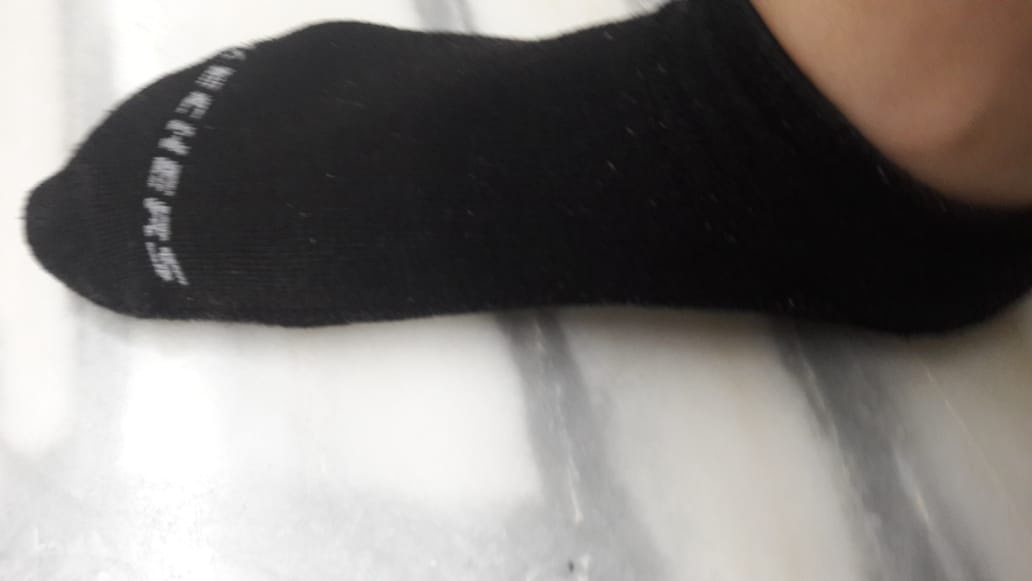feet: (22, 4, 1025, 357)
